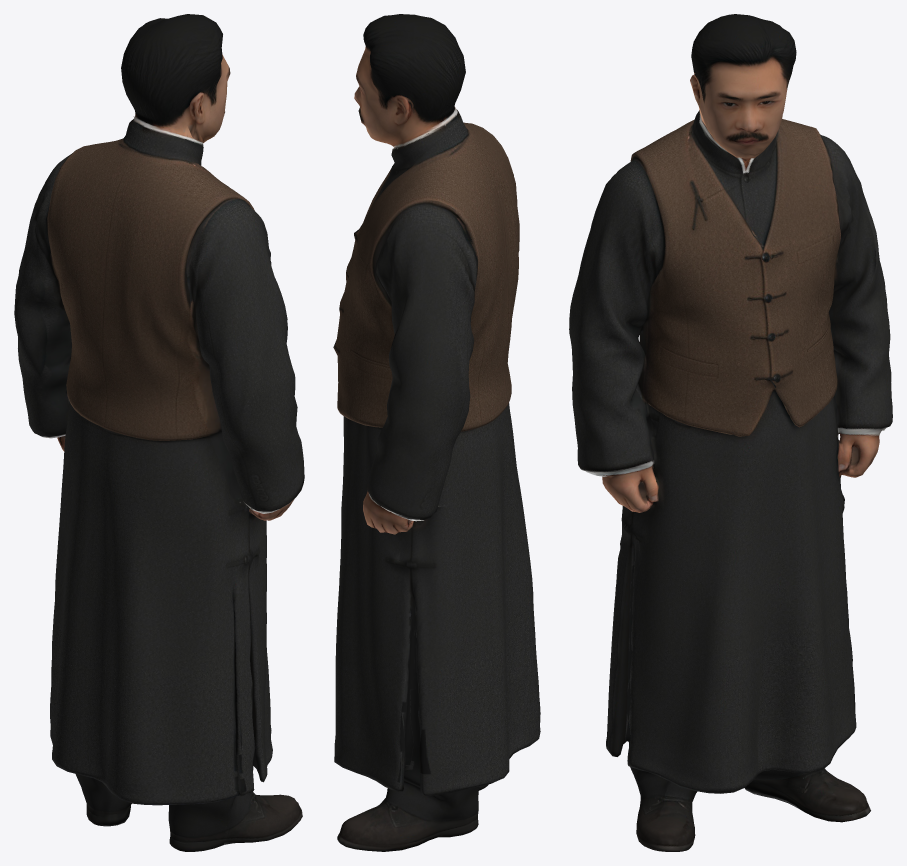
File: 27d4cbbc-e3be-4b77-b00e-fc7763525a0e_2.fbx
3 renders of one model, left to right at view 1: azimuth 30°, elevation 25°; view 2: azimuth 150°, elevation 25°; view 3: azimuth 270°, elevation 25°, orthographic.
Visible parts, largest first — view 1: tripo_node_787c71ed; view 2: tripo_node_787c71ed; view 3: tripo_node_787c71ed.
Boxes of the visible parts, bbox=[...] form: tripo_node_787c71ed: bbox=[14, 14, 304, 851]; tripo_node_787c71ed: bbox=[333, 14, 540, 851]; tripo_node_787c71ed: bbox=[569, 14, 892, 851].
Size of the model in its own units: 0.2539 by 0.9786 by 0.3599.
